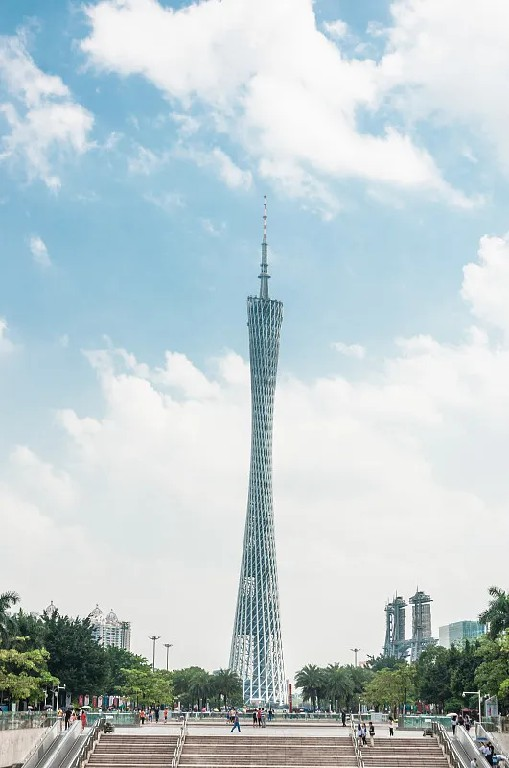Canton: (229, 193, 292, 711)
